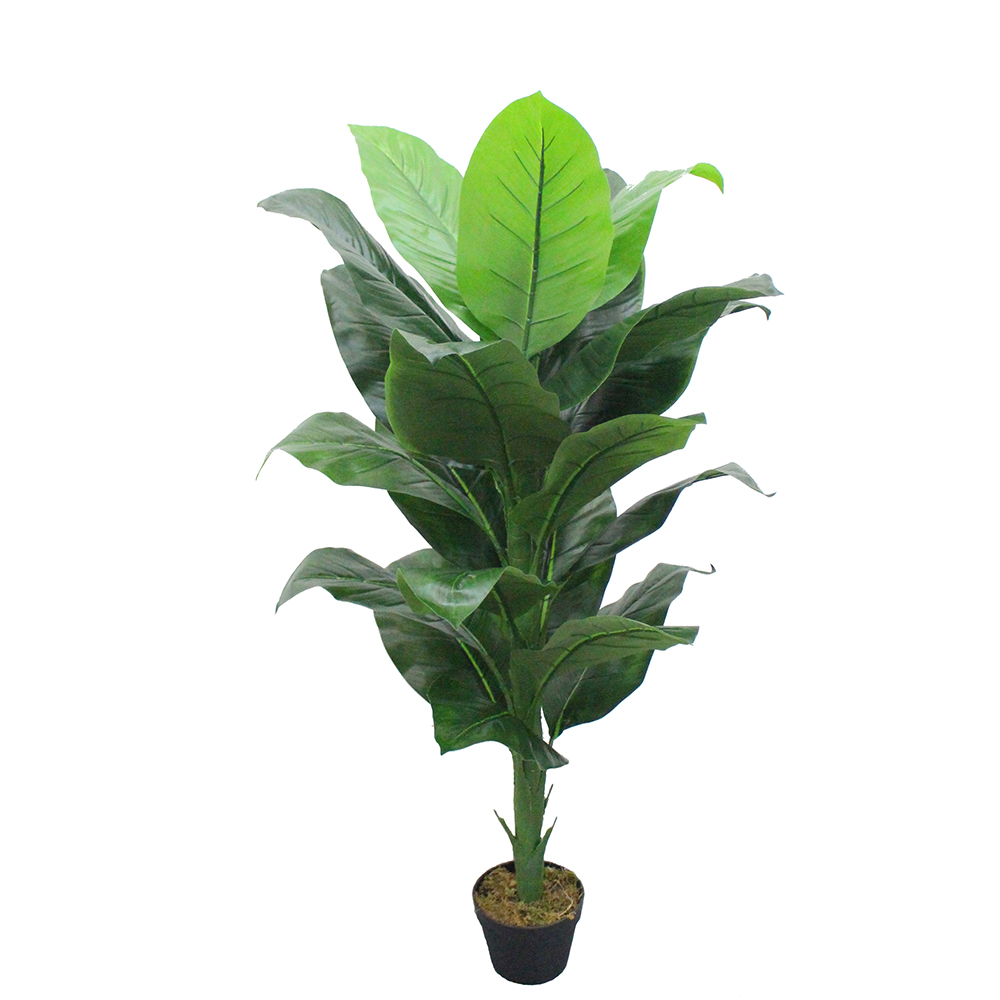tanaman: (253, 81, 787, 988)
